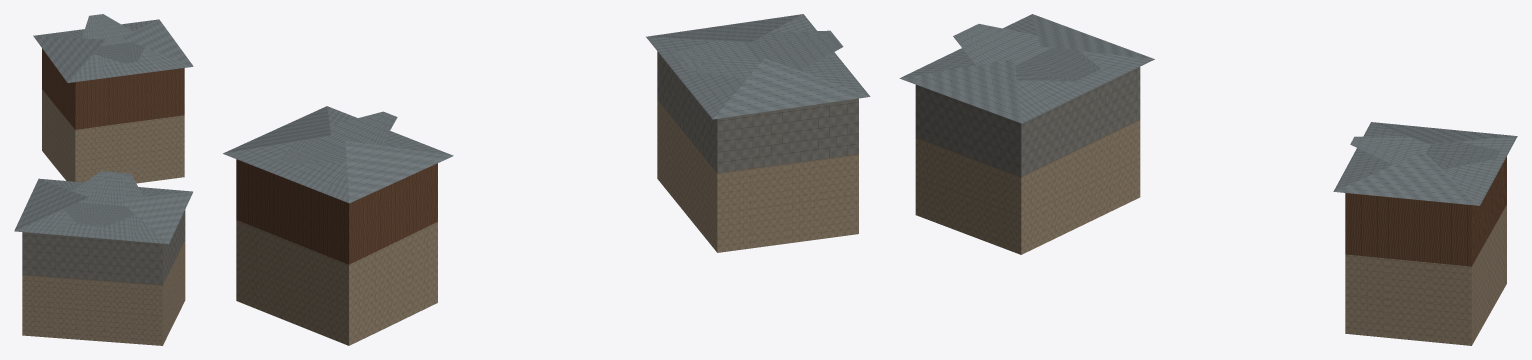
Rendered from bld_c9_7_509.gltf.
3 views of the same model, side by side, from view 1: azimuth 30°, elevation 25°; view 2: azimuth 150°, elevation 25°; view 3: azimuth 270°, elevation 25° (orthographic). The views are drawn at different scales.
Visible parts, largest first — view 1: bld_c9_7_509; view 2: bld_c9_7_509; view 3: bld_c9_7_509.
Boxes of the visible parts, left/top/right/bottom form: bld_c9_7_509: left=14, top=14, right=193, bottom=345; bld_c9_7_509: left=223, top=14, right=870, bottom=345; bld_c9_7_509: left=899, top=14, right=1517, bottom=345.
Size of the model in its own units: 26.4 by 9.9 by 34.48.
4 materials, 4 textured.
